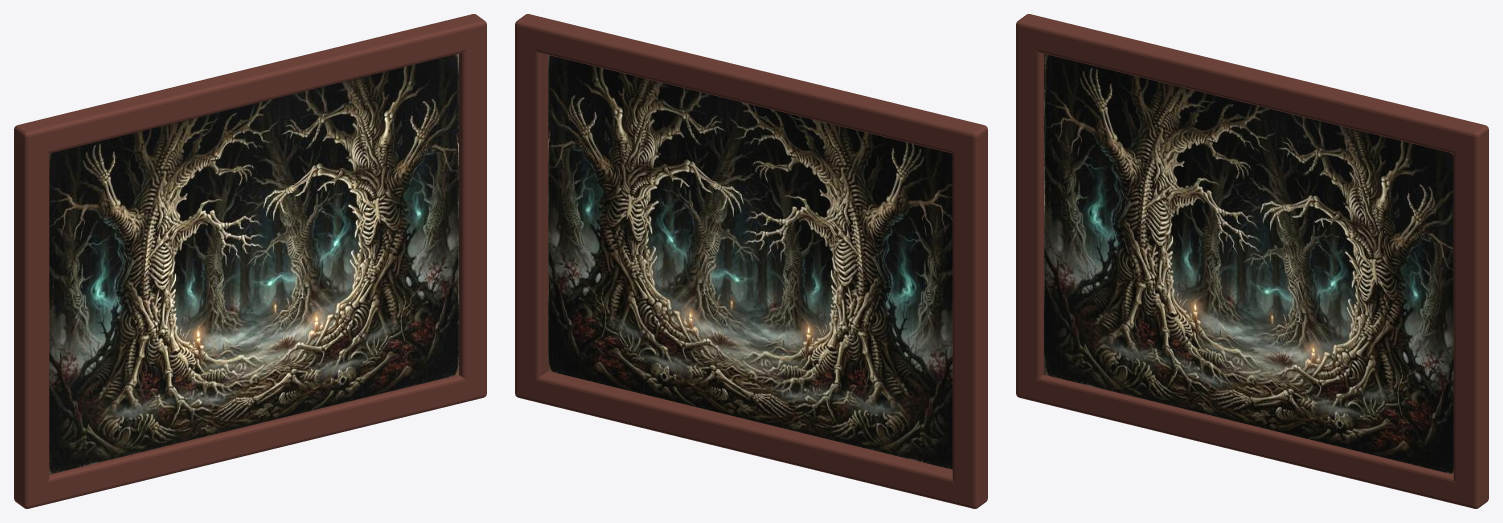
The model's file is art_bone_forest.glb.
The picture shows the model from 3 angles, left to right: view 1: azimuth 30°, elevation 25°; view 2: azimuth 150°, elevation 25°; view 3: azimuth 330°, elevation 25°; orthographic projection.
Parts seen in each view (by area): view 1: GD_art_bone_forest__m0, GD_art_bone_forest__m1; view 2: GD_art_bone_forest__m0, GD_art_bone_forest__m1; view 3: GD_art_bone_forest__m0, GD_art_bone_forest__m1.
Boxes of the visible parts, <box> form: GD_art_bone_forest__m0: <box>49,53,458,474</box>; GD_art_bone_forest__m1: <box>14,14,486,508</box>; GD_art_bone_forest__m0: <box>548,55,952,469</box>; GD_art_bone_forest__m1: <box>515,14,987,508</box>; GD_art_bone_forest__m0: <box>1044,53,1453,474</box>; GD_art_bone_forest__m1: <box>1016,14,1488,508</box>.
Bounding box in the file's own units: 1.26 × 0.98 × 0.06.
Materials: 2 (1 with a texture image).
